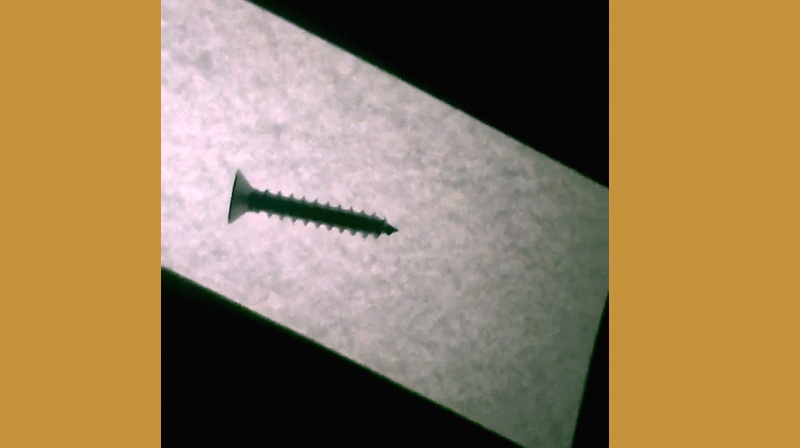S001: (221, 166, 401, 240)
